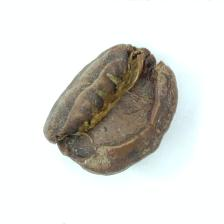NG: (52, 50, 162, 157)
